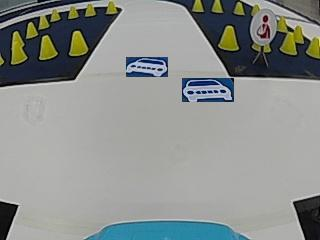cone: (218, 25, 239, 51), (68, 30, 88, 56), (38, 35, 58, 60), (11, 32, 26, 63), (281, 33, 296, 54), (306, 35, 319, 58), (104, 0, 117, 15), (26, 21, 38, 37), (276, 16, 288, 31), (191, 0, 204, 12), (84, 3, 96, 16), (38, 15, 50, 28), (67, 6, 79, 19), (211, 1, 223, 13), (50, 8, 61, 21), (233, 2, 244, 14)
patient: (251, 7, 275, 45)
